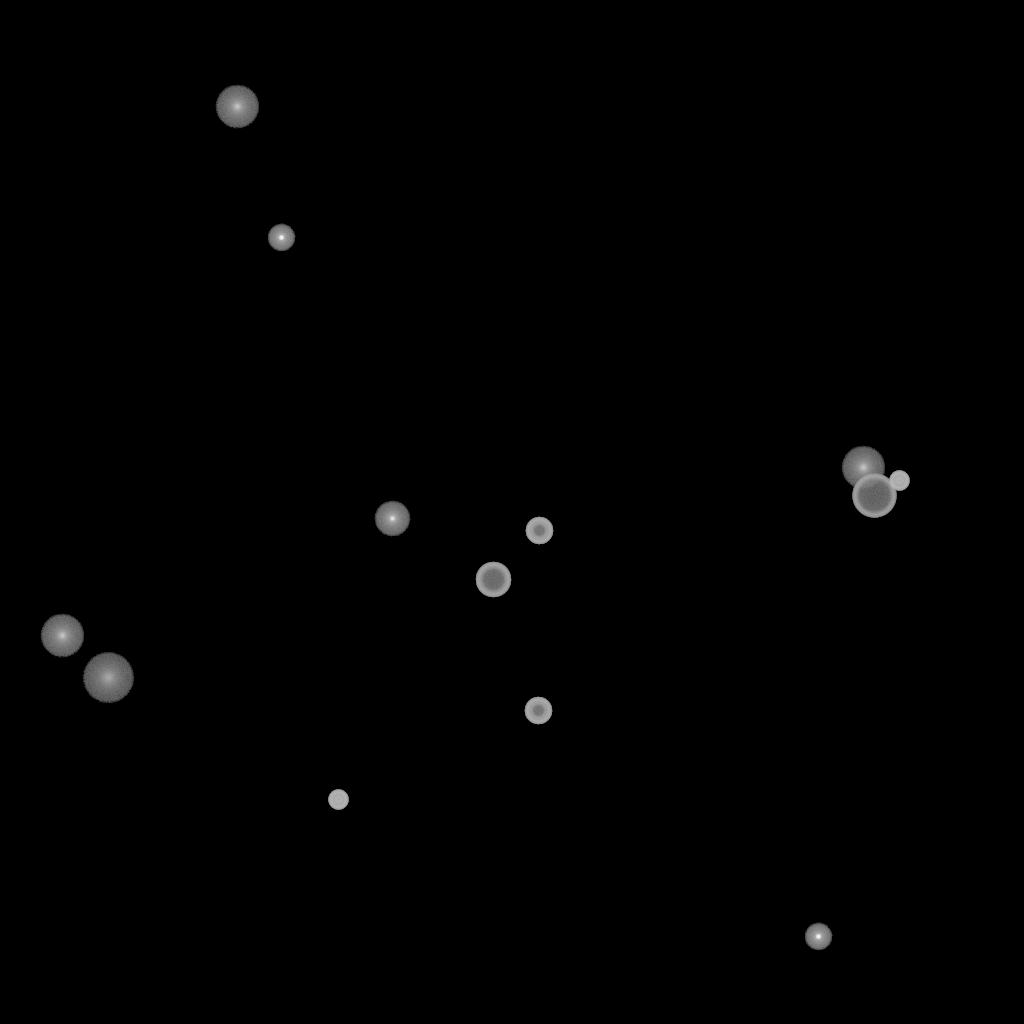depth:-10: (267, 224, 295, 252), (804, 923, 832, 951)
depth:-40: (328, 790, 348, 810), (889, 471, 909, 491)
depth:-50: (525, 517, 553, 545), (524, 697, 552, 725)
depth:-60: (475, 562, 511, 598)
depth:-70: (852, 474, 896, 518)
depth:0: (374, 501, 410, 537)
depth:10: (841, 446, 885, 490), (215, 85, 259, 129), (40, 614, 84, 658)
depth:20: (82, 653, 134, 703)
